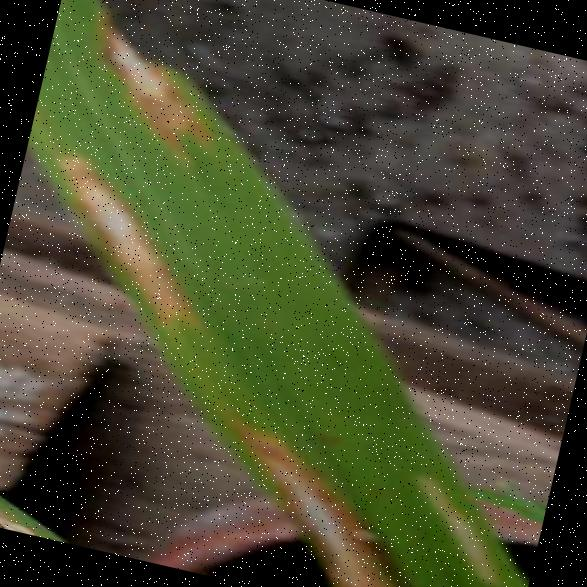Leaf_smut: (6, 126, 244, 353), (198, 400, 451, 587), (61, 0, 253, 159)
